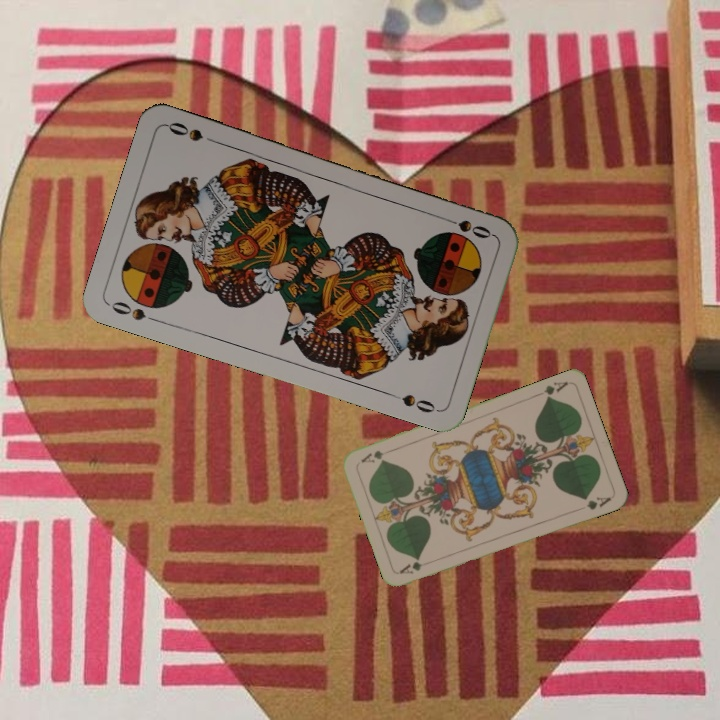GA: (540, 377, 571, 402), (396, 558, 425, 577)
SO: (438, 212, 495, 241), (107, 297, 163, 326)
